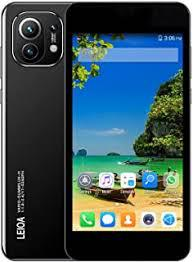Smartphone: (72, 8, 188, 261), (7, 1, 70, 254)
